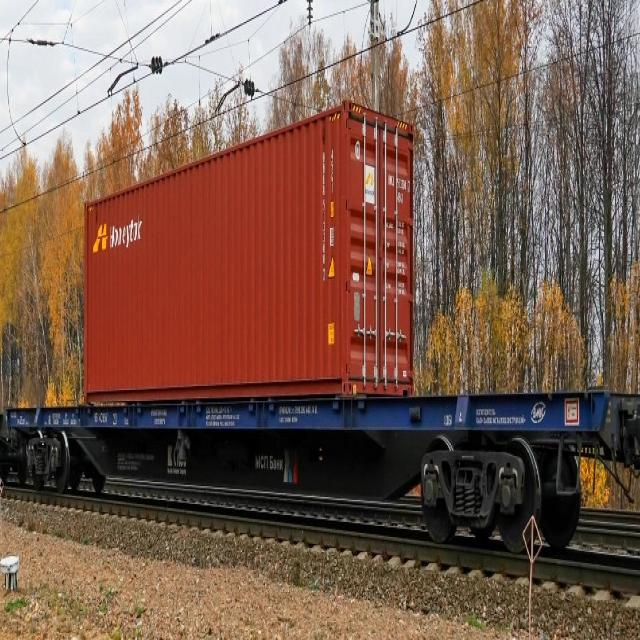container: (81, 92, 416, 415)
flatcar: (1, 382, 620, 556)
